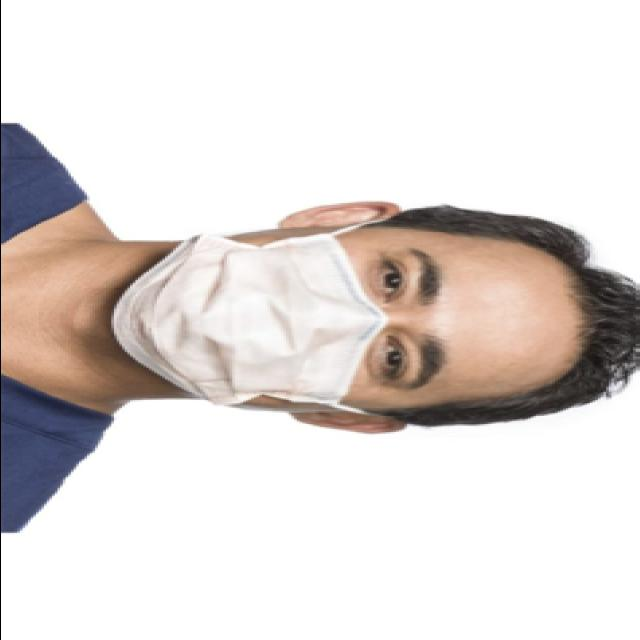mask: (119, 230, 462, 412)
